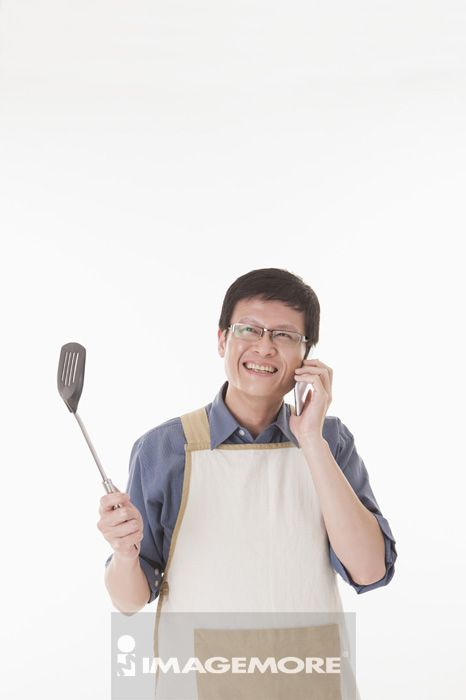phone: (294, 349, 314, 422)
talk: (227, 317, 332, 439)
